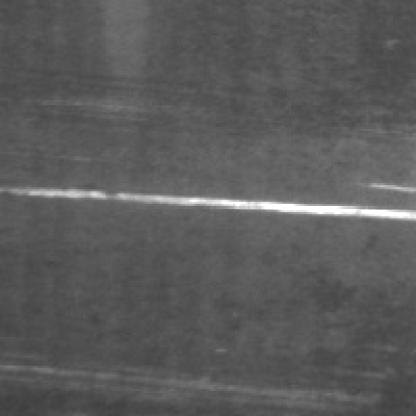scratches: (2, 168, 412, 220), (66, 362, 372, 408)
